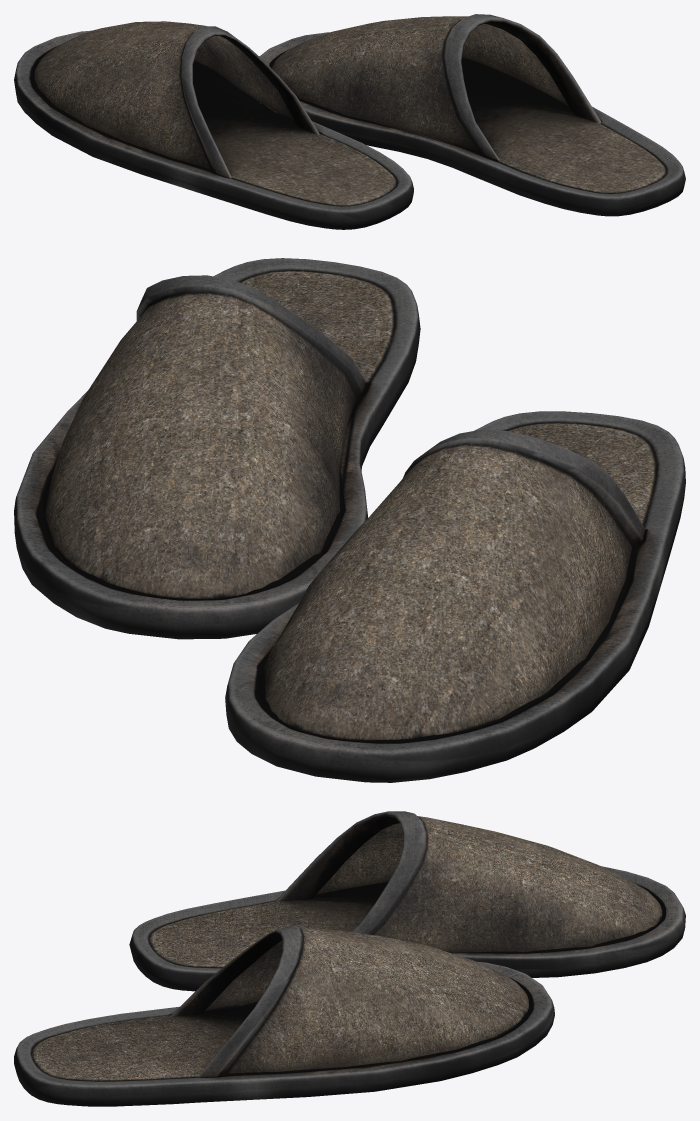
3 renders of one model, top to bottom at view 1: azimuth 30°, elevation 25°; view 2: azimuth 150°, elevation 25°; view 3: azimuth 270°, elevation 25°, orthographic. The views are drawn at different scales.
Parts seen in each view (by area): view 1: Плоскость.011_Плоскость.000, Плоскость.011_Плоскость.014; view 2: Плоскость.011_Плоскость.014, Плоскость.011_Плоскость.000; view 3: Плоскость.011_Плоскость.000, Плоскость.011_Плоскость.014.
Boxes of the visible parts, bbox=[...] form: Плоскость.011_Плоскость.000: bbox=[259, 14, 685, 216]; Плоскость.011_Плоскость.014: bbox=[14, 21, 413, 229]; Плоскость.011_Плоскость.014: bbox=[225, 411, 685, 782]; Плоскость.011_Плоскость.000: bbox=[14, 258, 420, 639]; Плоскость.011_Плоскость.000: bbox=[14, 925, 554, 1106]; Плоскость.011_Плоскость.014: bbox=[129, 811, 685, 991].
Size of the model in its own units: 5.61 by 1.39 by 6.99.
Materials: 2 (2 with a texture image).
